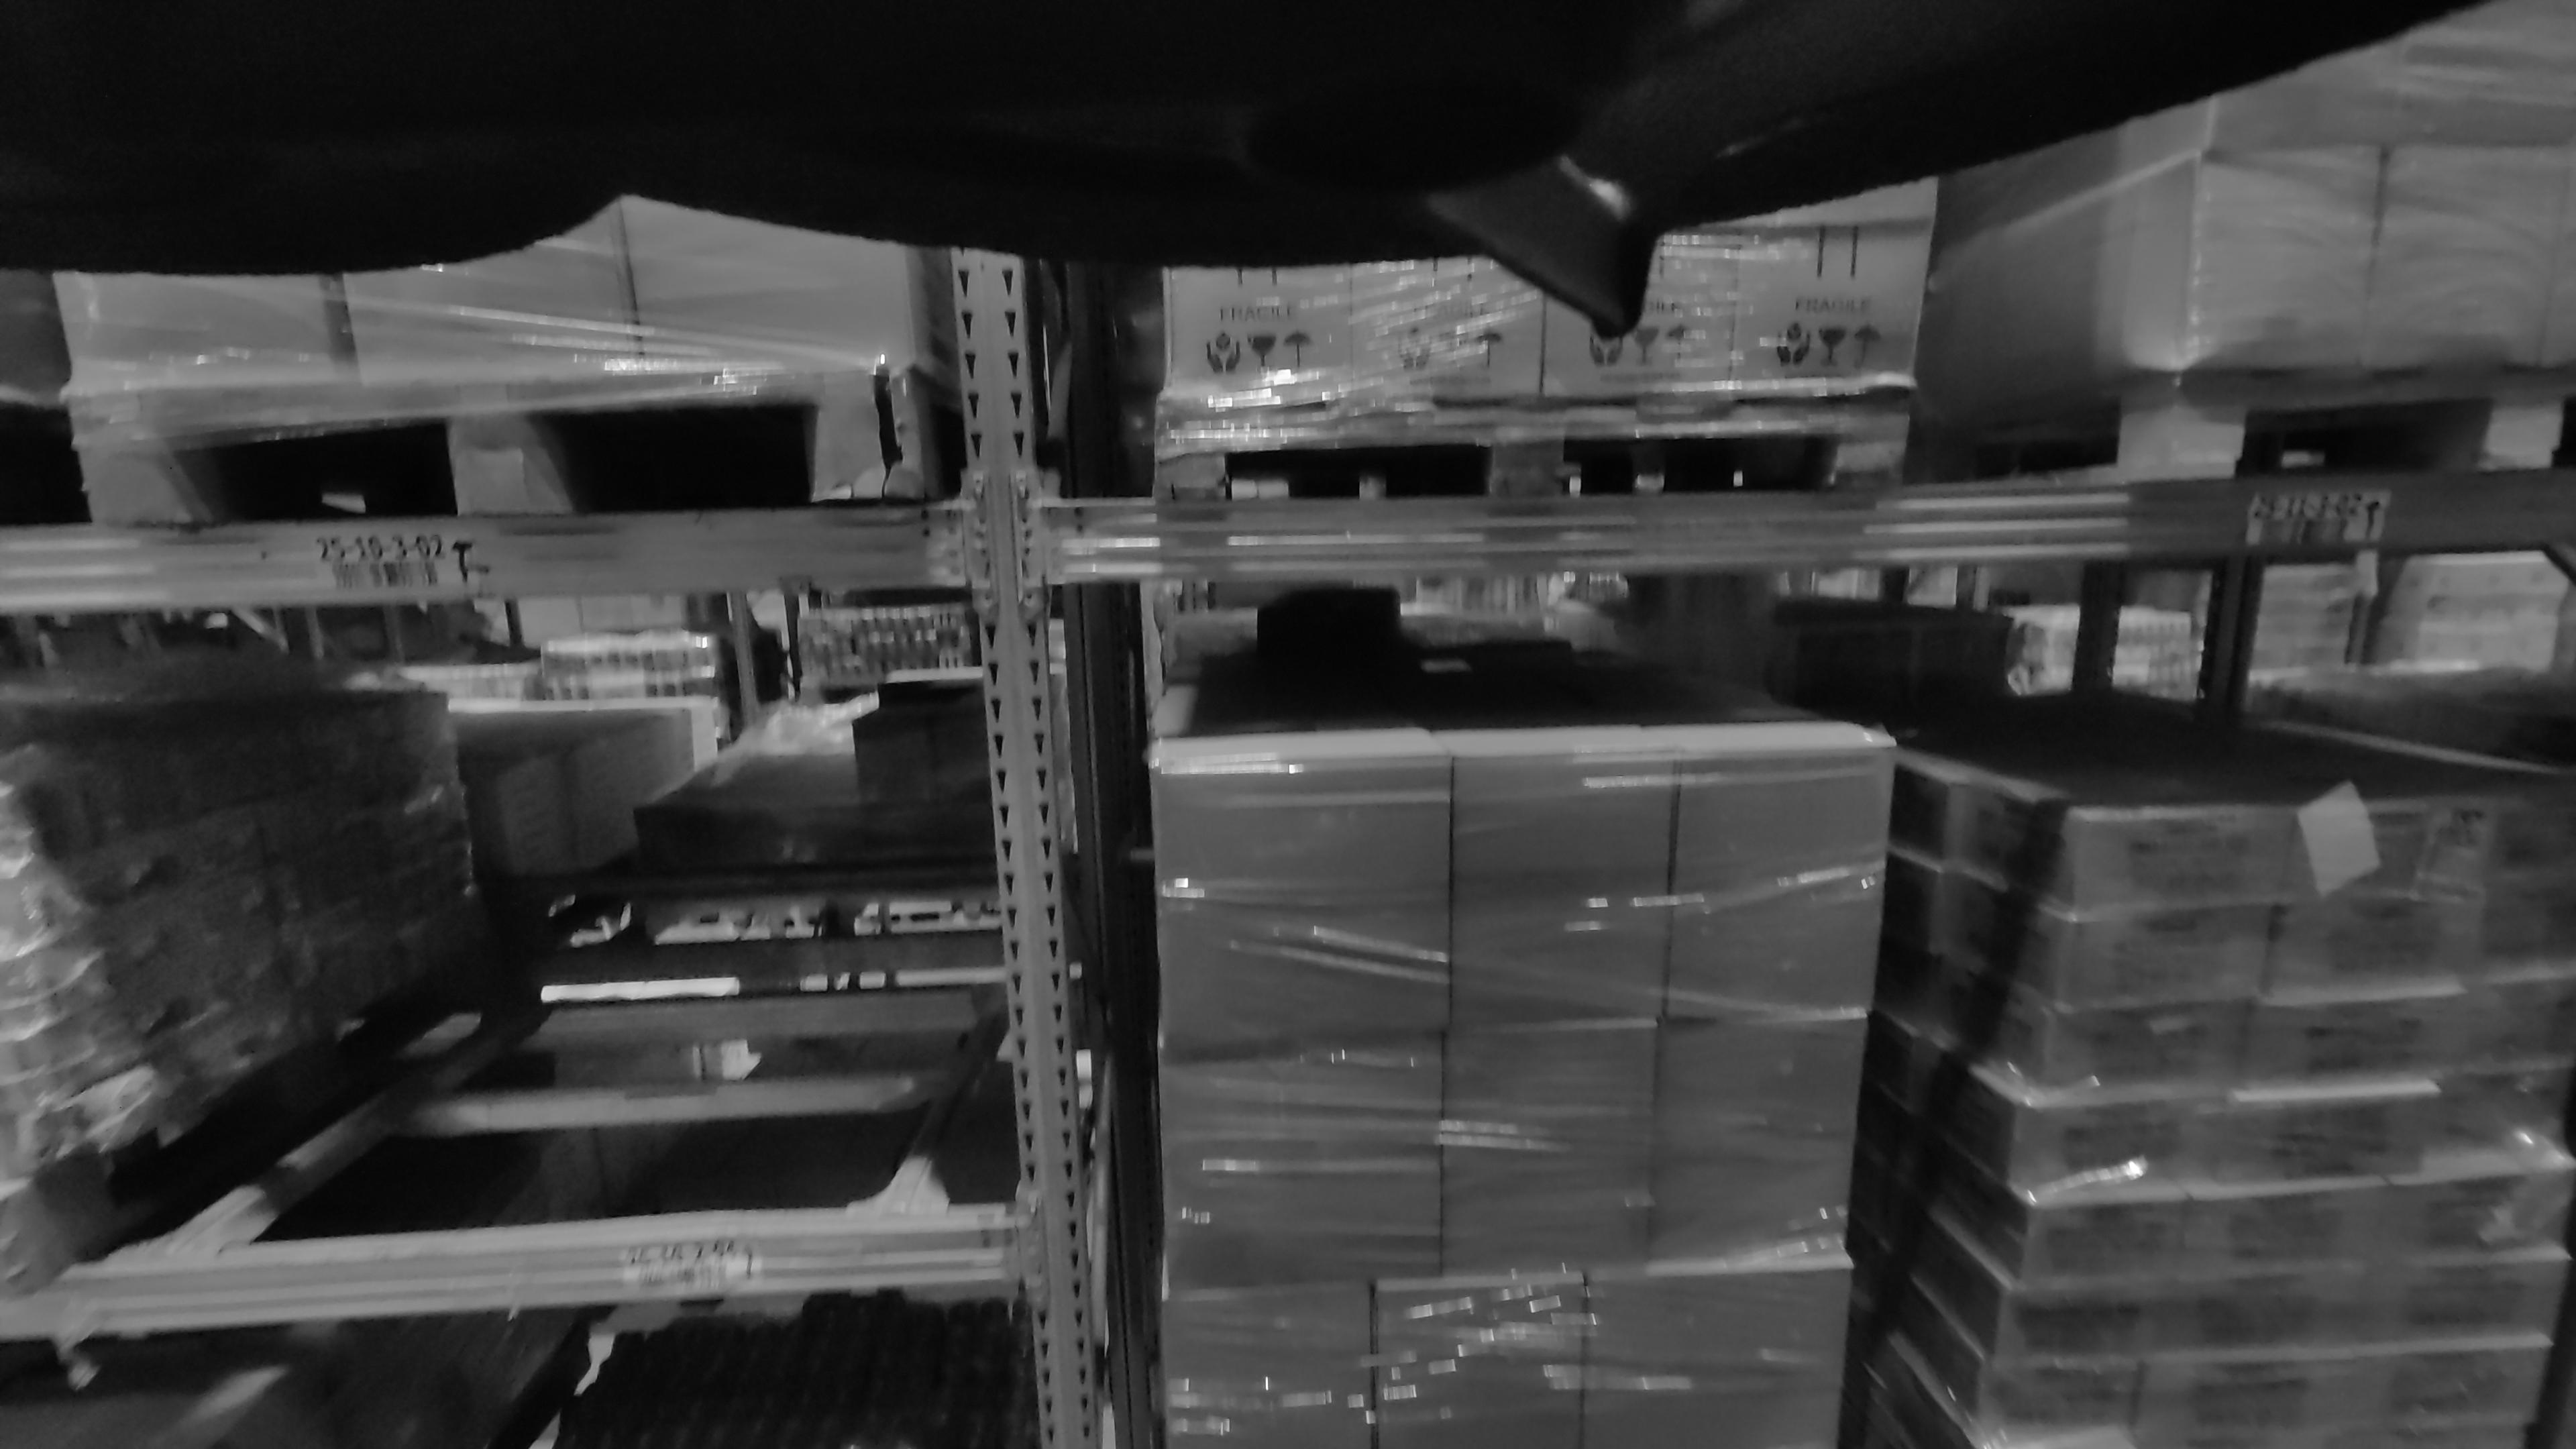empty-shelf: (196, 610, 984, 1219)
